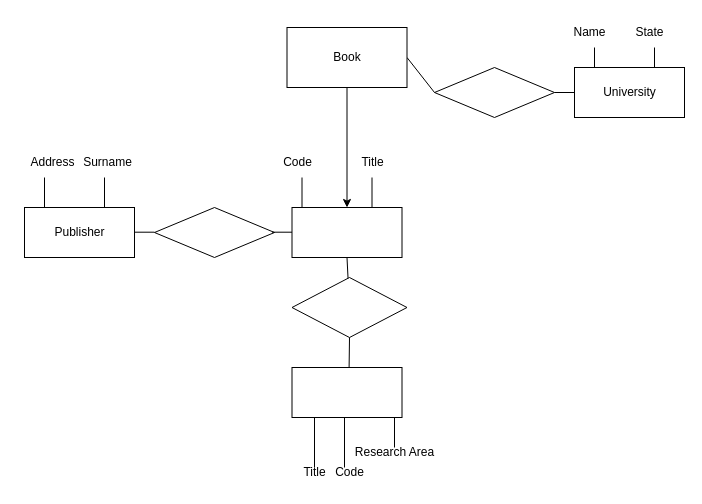
This 702x504 diagram has some shape labels left out. The shapes that lost their labels are listed below. From the top down, each one's centre as x and y in pixels, then its label:
At pixel 346 232: "Publication".
At pixel 346 392: "Topics".
